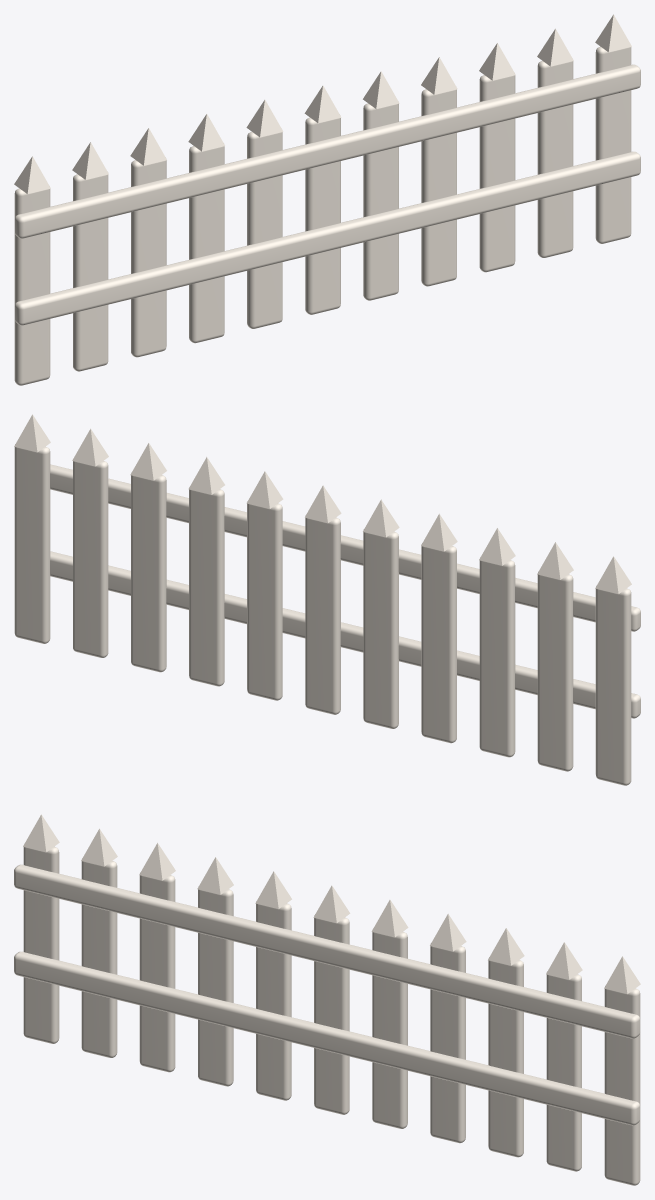
The model's file is fence.glb.
3 renders of one model, top to bottom at view 1: azimuth 30°, elevation 25°; view 2: azimuth 150°, elevation 25°; view 3: azimuth 330°, elevation 25°, orthographic.
Visible parts, largest first — view 1: fence; view 2: fence; view 3: fence.
Part boxes in pixels (x1,y1,x2,y2): fence: (14, 14, 640, 385); fence: (14, 414, 640, 785); fence: (14, 814, 640, 1185).
Size of the model in its own units: 3 by 1.04 by 0.1267.
Materials: 1 (1 with a texture image).
